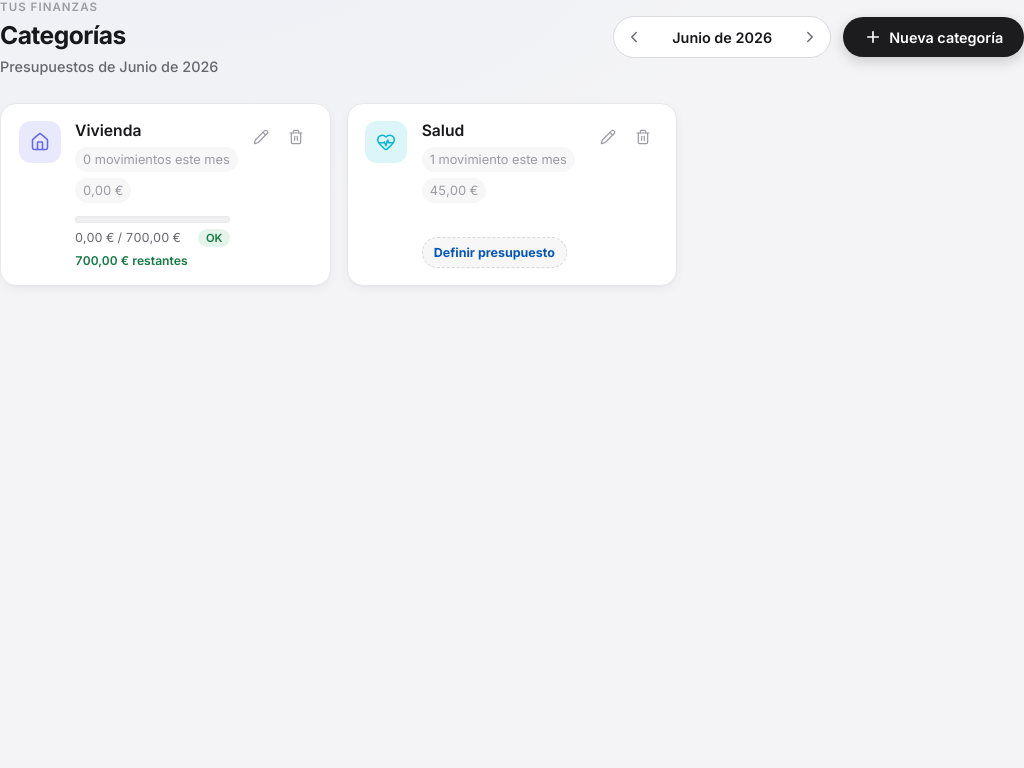
Test: CategoriesPage › deletes a category after confirmation
Click the button named "Borrar" next to "Vivienda". click: (296, 137)
box: left=280, top=121, right=312, bottom=153
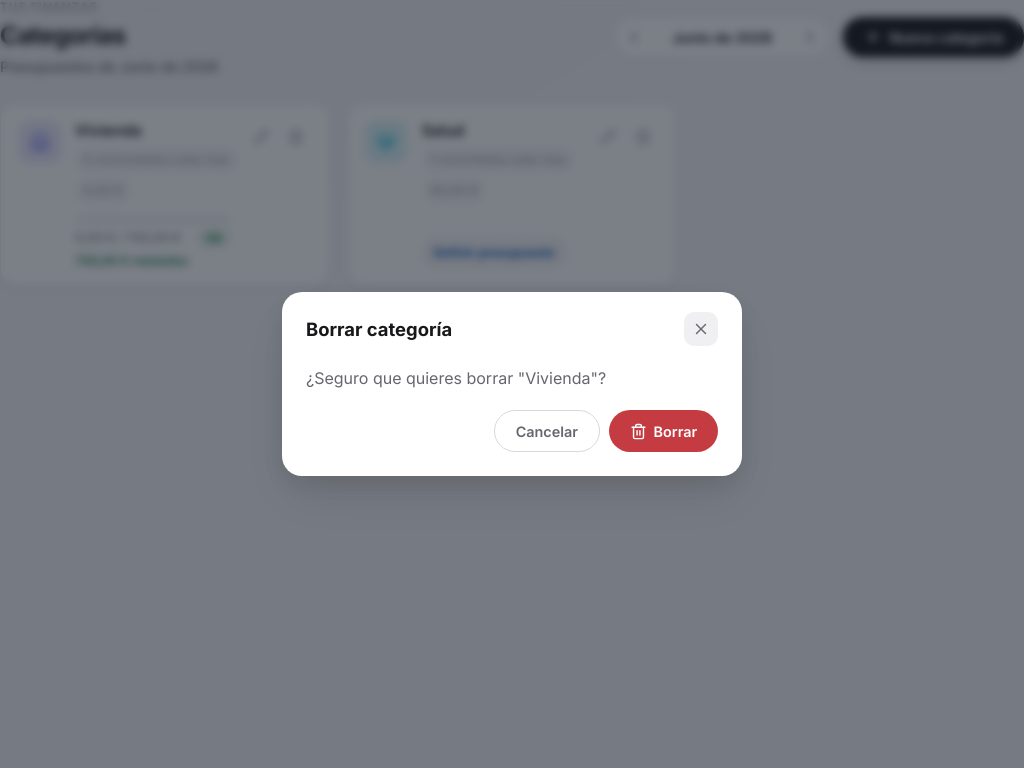
Check: the heading "Borrar categoría" is shown, box left=306, top=318, right=452, bottom=340
Click the button "Cancelar". click: (547, 431)
box: left=494, top=410, right=600, bottom=452
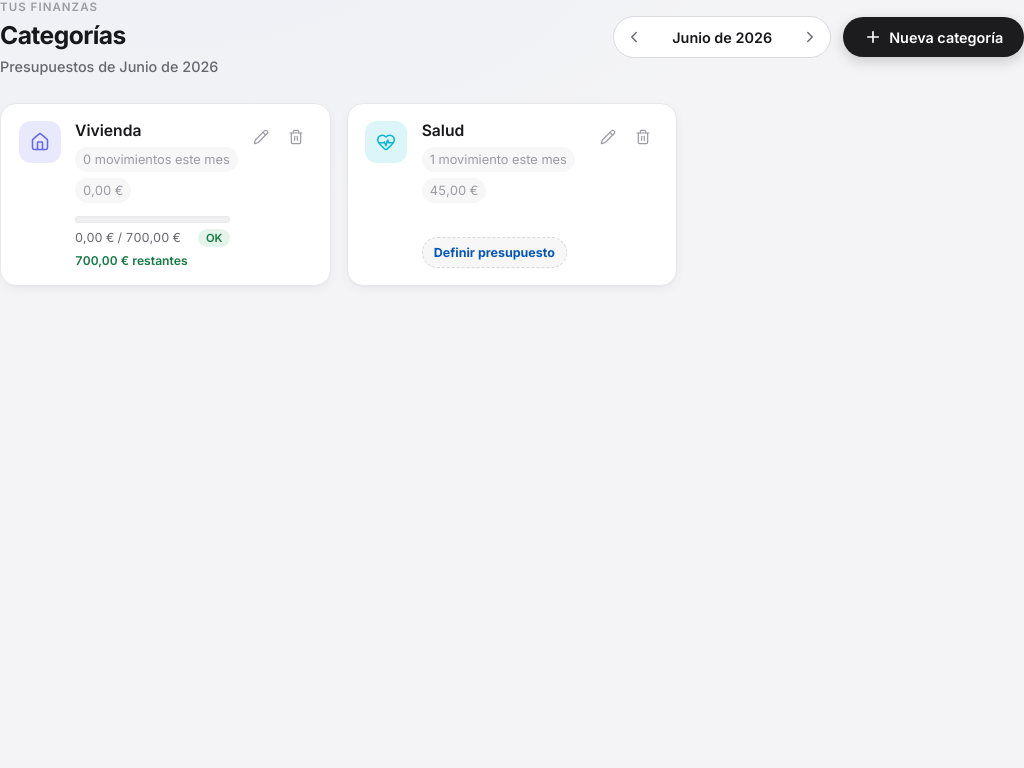
Check: the heading "Borrar categoría" is gone
